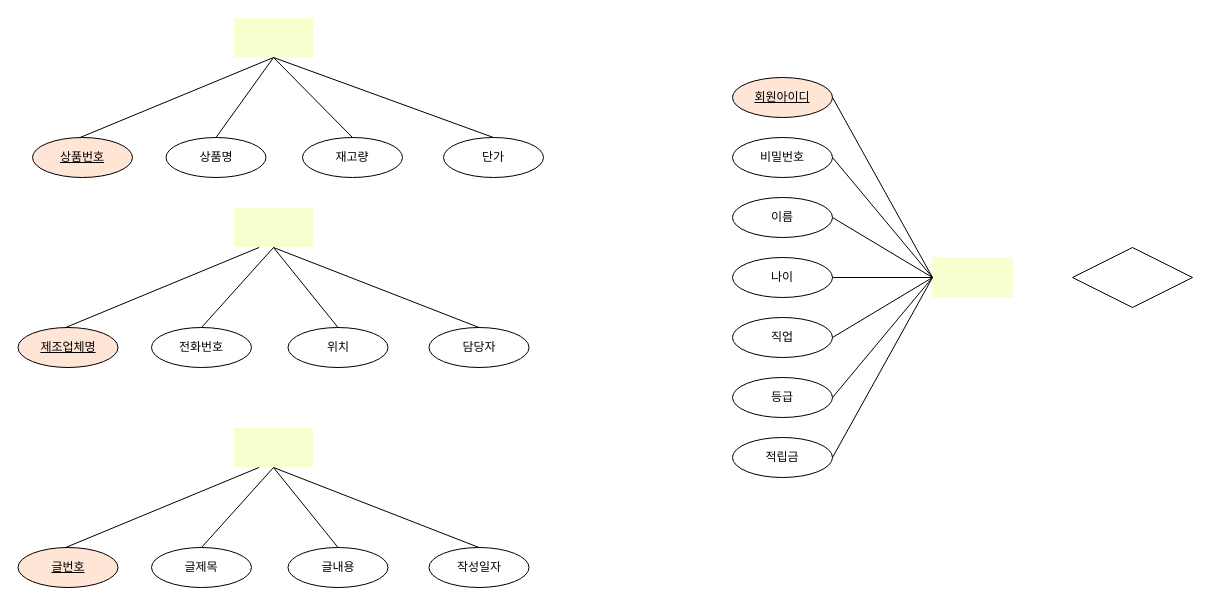
Some shapes in this 1210 by 605 pixel diagram are drawn without their labels. Each missing label, with the centre of its shape:
"게시글" goes at pixel 273 447.
"상품" goes at pixel 273 37.
"제조업체" goes at pixel 273 227.
"주문" goes at pixel 1132 277.
"회원" goes at pixel 972 277.
